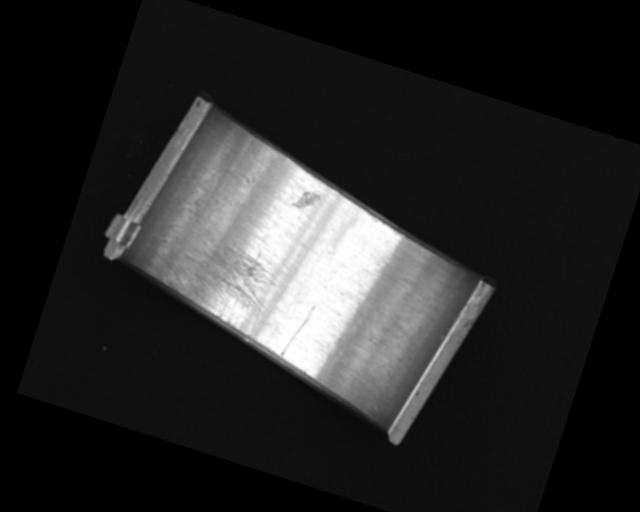bruise: (291, 187, 321, 213)
nick: (397, 257, 466, 352), (279, 300, 317, 362)
scratch: (152, 224, 285, 344)
